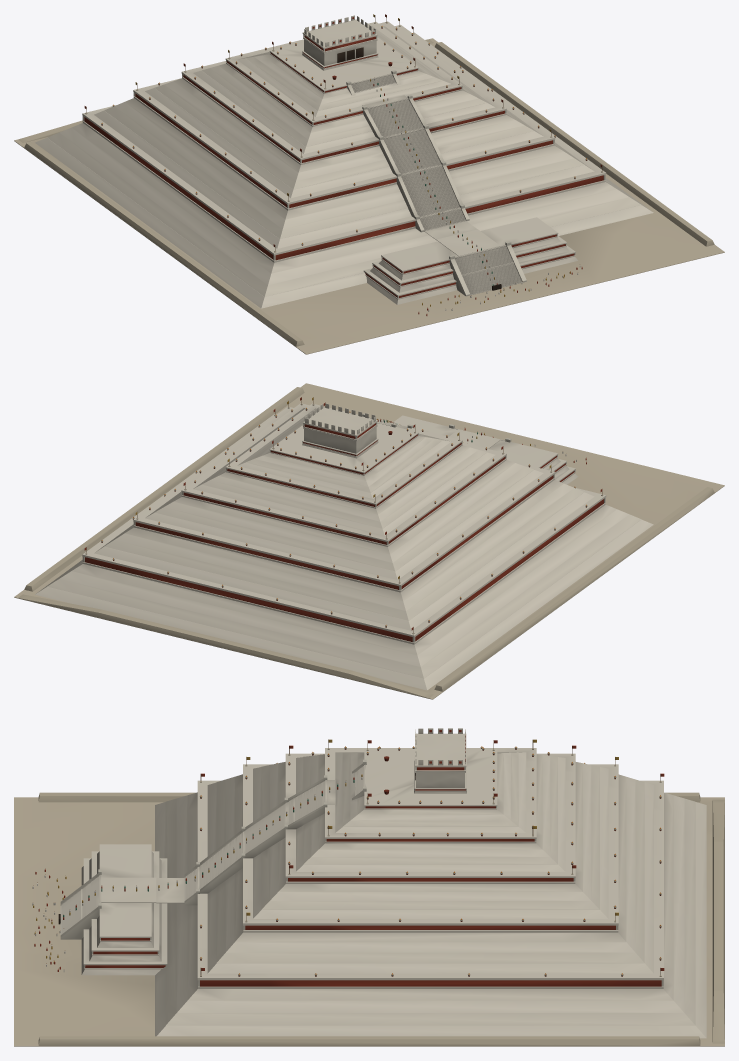
File: pyramid-of-the-sun.glb
3 renders of one model, top to bottom at view 1: azimuth 30°, elevation 25°; view 2: azimuth 150°, elevation 25°; view 3: azimuth 270°, elevation 25°, orthographic. The views are drawn at different scales.
Visible parts, largest first — view 1: p1_pyramid, p0_ground, p2_temple; view 2: p1_pyramid, p0_ground, p2_temple; view 3: p1_pyramid, p0_ground, p2_temple.
Part boxes in pixels (x1,y1,x2,y2): p1_pyramid: (35, 21, 653, 308); p0_ground: (14, 38, 724, 354); p2_temple: (84, 14, 602, 315); p1_pyramid: (35, 403, 653, 690); p0_ground: (14, 383, 724, 699); p2_temple: (84, 397, 603, 634); p1_pyramid: (81, 748, 706, 1038); p0_ground: (14, 792, 724, 1046); p2_temple: (32, 728, 664, 976).
Size of the model in its own units: 240 by 80.11 by 290.
